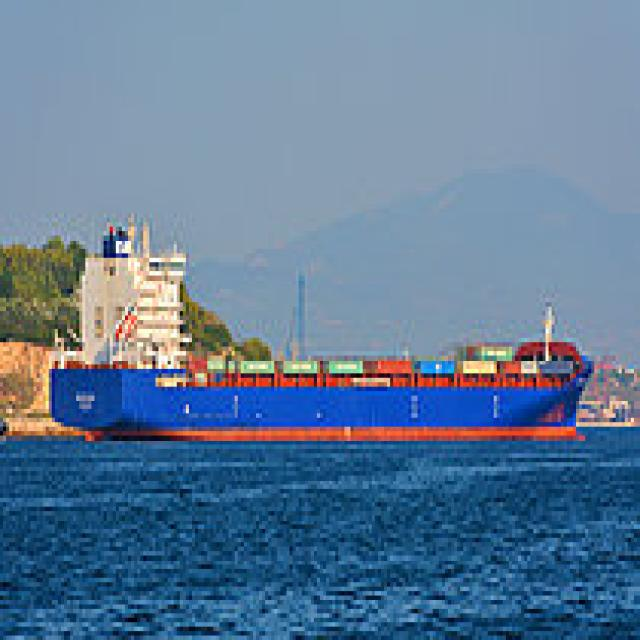Cargo: (43, 200, 591, 436)
